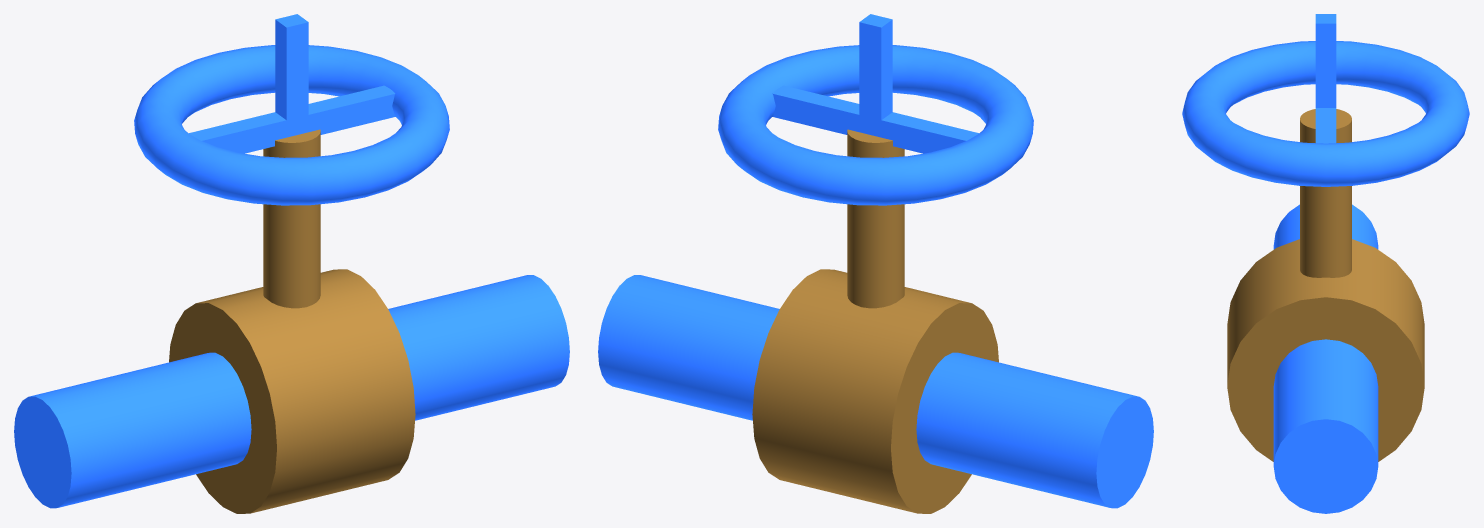
Rendered from valve-shutoff.glb.
The picture shows the model from 3 angles, left to right: view 1: azimuth 30°, elevation 25°; view 2: azimuth 150°, elevation 25°; view 3: azimuth 270°, elevation 25°; orthographic projection. The views are drawn at different scales.
Parts seen in each view (by area): view 1: Shutoff valve; view 2: Shutoff valve; view 3: Shutoff valve.
Boxes of the visible parts, <box> form: Shutoff valve: <box>14,14,569,513</box>; Shutoff valve: <box>598,14,1153,513</box>; Shutoff valve: <box>1182,14,1469,513</box>.
Bounding box in the file's own units: 1.8 × 1.62 × 0.99.
